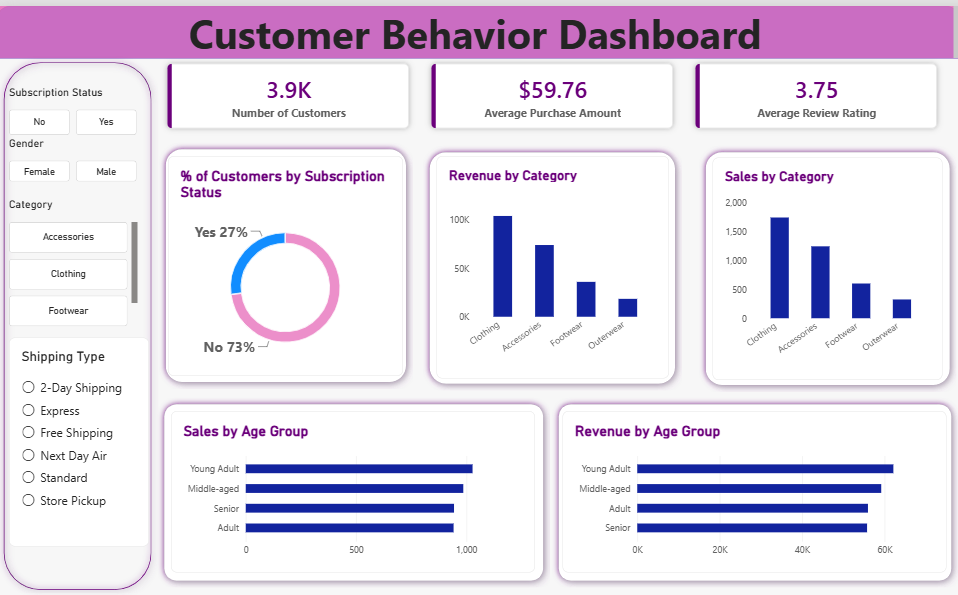

The dashboard page shown, as its layout file describes it:
{"tool":"powerbi","page":{"name":"Page 1","canvas":[1920,1080],"ordinal":0},"visuals":[{"type":"cardVisual","fields":{"Data":["public customer.Number of Customers","public customer.Average Purchase Amount","public customer.Average Review Rating"]},"box":[215,65,1050,108.3],"z":0},{"type":"shape","box":[0,0,1283.3,70],"z":1000},{"type":"textbox","box":[810,47.5,743,150],"z":2000},{"type":"textbox","box":[1331.1,20,588.9,57.8],"z":3000},{"type":"textbox","box":[0,0,1283.3,70],"z":4000},{"type":"shape","box":[215,181.7,338.3,328.3],"z":5000},{"type":"donutChart","title":"% of Customers by Subscription Status","fields":{"Category":["public customer.subscription_status"],"Y":["CountNonNull(public customer.customer_id)"]},"box":[228.3,200,313.3,293.3],"z":6000},{"type":"shape","box":[568.3,186.7,345,326.7],"z":7000},{"type":"shape","box":[935,185,343.3,328.3],"z":8000},{"type":"clusteredColumnChart","title":"Revenue by Category","fields":{"Category":["public customer.category"],"Y":["Sum(public customer.purchase_amount)"]},"box":[585,200,310,296.7],"z":9000},{"type":"clusteredColumnChart","title":"Sales by Category","fields":{"Category":["public customer.category"],"Y":["CountNonNull(public customer.customer_id)"]},"box":[953.3,201.7,306.7,296.7],"z":10000},{"type":"shape","box":[0,65,215,721.7],"z":11000},{"type":"advancedSlicerVisual","title":"Subscription Status","fields":{"Values":["public customer.subscription_status"]},"box":[16.7,106.7,171.7,66.7],"z":12000},{"type":"advancedSlicerVisual","title":"Gender","fields":{"Values":["public customer.gender"]},"box":[16.7,173.3,171.7,60],"z":13000},{"type":"advancedSlicerVisual","title":"Category","fields":{"Values":["public customer.category"]},"box":[16.7,255,171.7,171.7],"z":14000},{"type":"listSlicer","title":"Shipping Type","fields":{"Values":["public customer.shipping_type"]},"box":[15,441.7,186.7,278.3],"z":14001},{"type":"shape","box":[740,521.7,541.7,253.3],"z":14004},{"type":"shape","box":[213.3,521.7,523.3,253.3],"z":14005},{"type":"clusteredBarChart","title":"Sales by Age Group","fields":{"Category":["public customer.age_group"],"Y":["CountNonNull(public customer.customer_id)"]},"box":[231.7,540,485,215],"z":14006},{"type":"clusteredBarChart","title":"Revenue by Age Group","fields":{"Category":["public customer.age_group"],"Y":["Sum(public customer.purchase_amount)"]},"box":[753.3,540,511.7,215],"z":14007}]}

Visuals, with their boxes on the page's 1920x1080 design canvas (x1, y1, x2, y2). These are canvas units, not pixel positions in the 958x595 screenshot, which may show the page scaled, cropped or inside an application window:
cardVisual - public customer.Number of Customers x public customer.Average Purchase Amount: Rect(215, 65, 1265, 173)
shape: Rect(0, 0, 1283, 70)
textbox: Rect(810, 48, 1553, 198)
textbox: Rect(1331, 20, 1920, 78)
textbox: Rect(0, 0, 1283, 70)
shape: Rect(215, 182, 553, 510)
"% of Customers by Subscription Status" donutChart: Rect(228, 200, 542, 493)
shape: Rect(568, 187, 913, 513)
shape: Rect(935, 185, 1278, 513)
"Revenue by Category" clusteredColumnChart: Rect(585, 200, 895, 497)
"Sales by Category" clusteredColumnChart: Rect(953, 202, 1260, 498)
shape: Rect(0, 65, 215, 787)
"Subscription Status" advancedSlicerVisual: Rect(17, 107, 188, 173)
"Gender" advancedSlicerVisual: Rect(17, 173, 188, 233)
"Category" advancedSlicerVisual: Rect(17, 255, 188, 427)
"Shipping Type" listSlicer: Rect(15, 442, 202, 720)
shape: Rect(740, 522, 1282, 775)
shape: Rect(213, 522, 737, 775)
"Sales by Age Group" clusteredBarChart: Rect(232, 540, 717, 755)
"Revenue by Age Group" clusteredBarChart: Rect(753, 540, 1265, 755)
